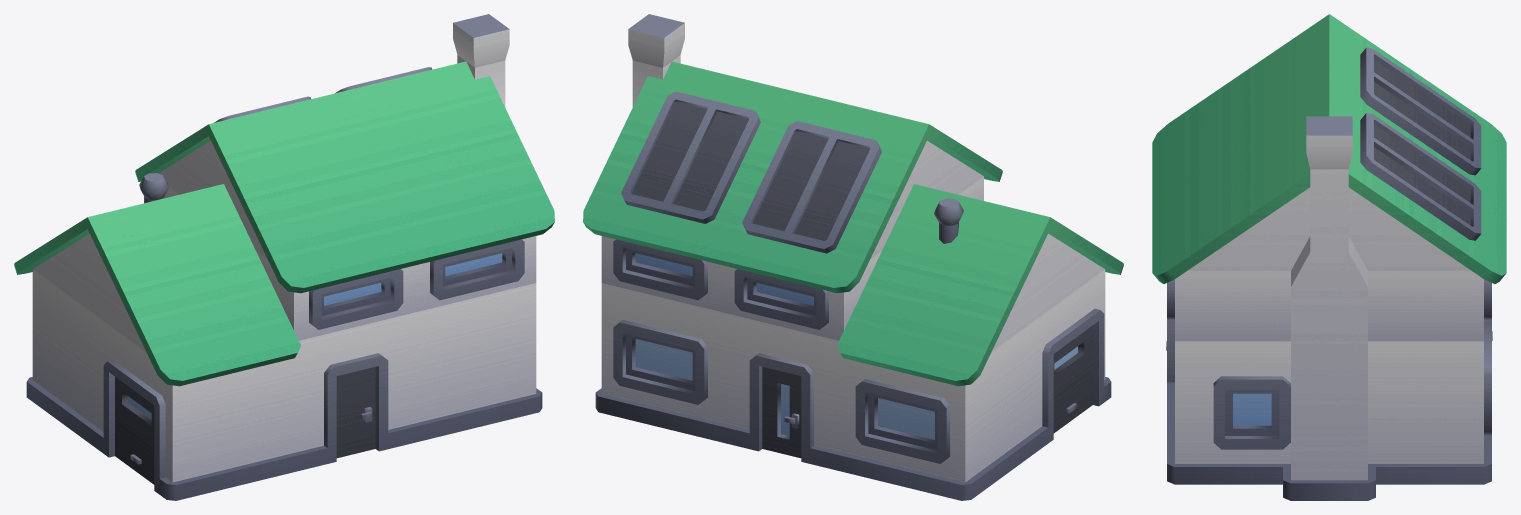
File: building-type-j.glb
3 renders of one model, left to right at view 1: azimuth 30°, elevation 25°; view 2: azimuth 150°, elevation 25°; view 3: azimuth 270°, elevation 25°, orthographic. The views are drawn at different scales.
Parts seen in each view (by area): view 1: building-type-j; view 2: building-type-j; view 3: building-type-j.
Boxes of the visible parts, <box> form: building-type-j: <box>14,14,554,500</box>; building-type-j: <box>583,14,1123,500</box>; building-type-j: <box>1152,14,1506,500</box>.
Bounding box in the file's own units: 1.37 × 1.04 × 0.916.
1 material, 1 textured.
